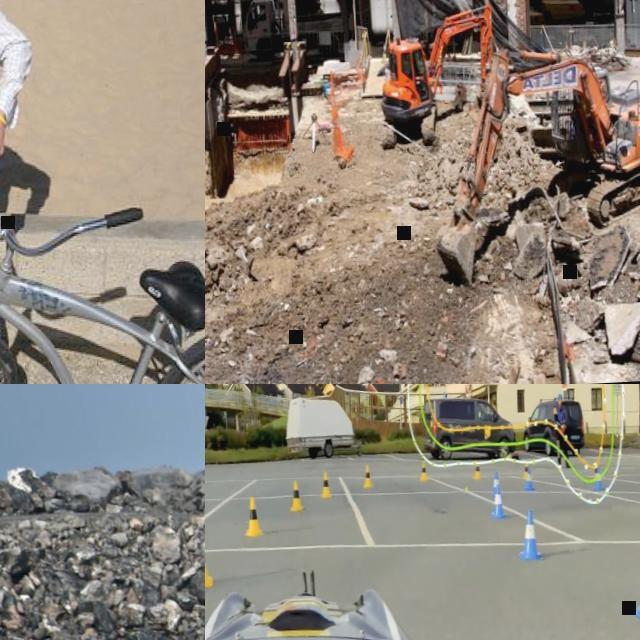machinery: (426, 56, 640, 289), (373, 1, 501, 155), (241, 0, 355, 62)
no_helmet: (558, 394, 564, 400)
no_mask: (558, 402, 561, 408)
no_vest: (554, 407, 564, 428)
person: (0, 0, 50, 384), (552, 394, 570, 469)
safety_cone: (515, 510, 541, 562), (627, 539, 640, 625), (242, 494, 261, 538), (328, 71, 338, 123), (290, 479, 304, 514), (492, 488, 506, 520), (205, 528, 212, 590), (361, 462, 374, 491), (321, 470, 332, 501), (594, 464, 604, 497), (524, 466, 534, 493), (491, 472, 502, 496), (418, 459, 428, 484), (522, 458, 532, 482), (473, 458, 481, 481)
vehicle: (205, 557, 640, 640), (422, 392, 518, 462), (522, 392, 585, 452)
